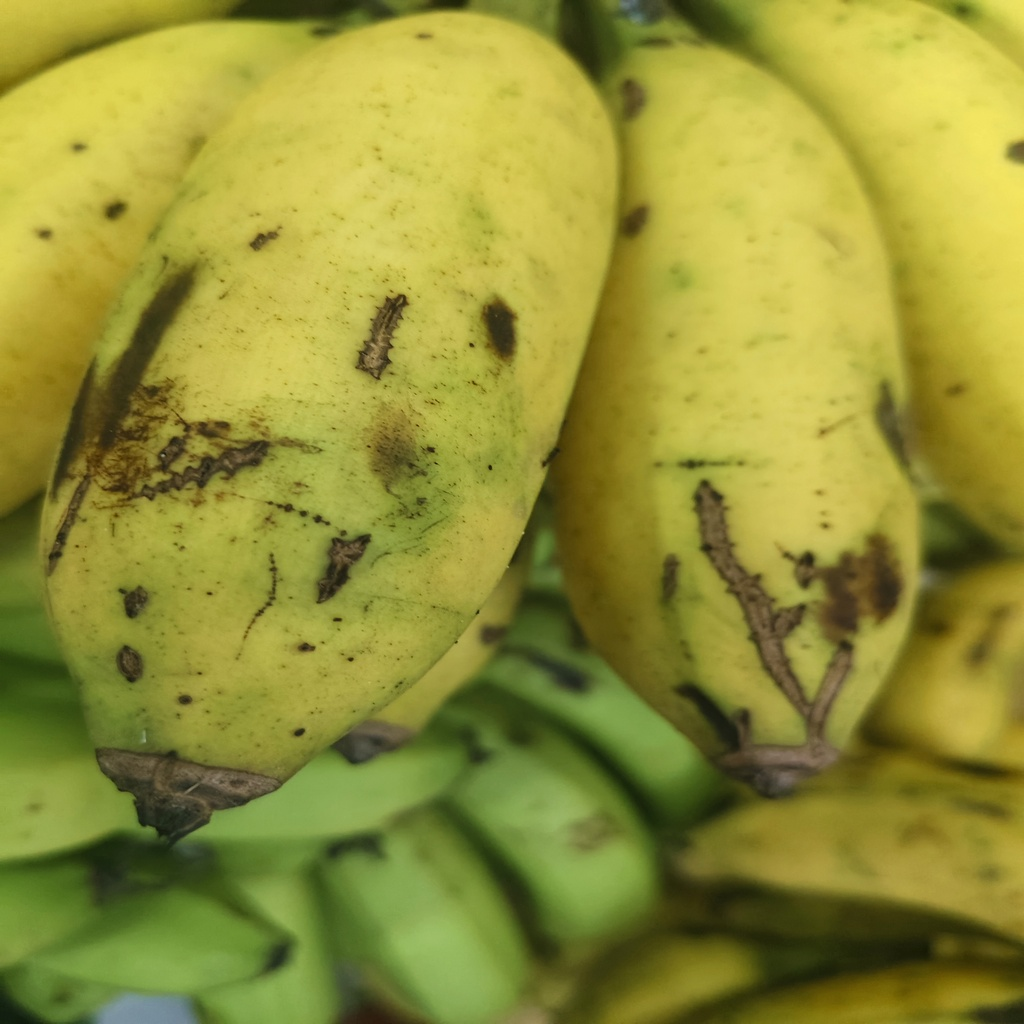unhealthy: (45, 14, 627, 837), (559, 37, 926, 797)
